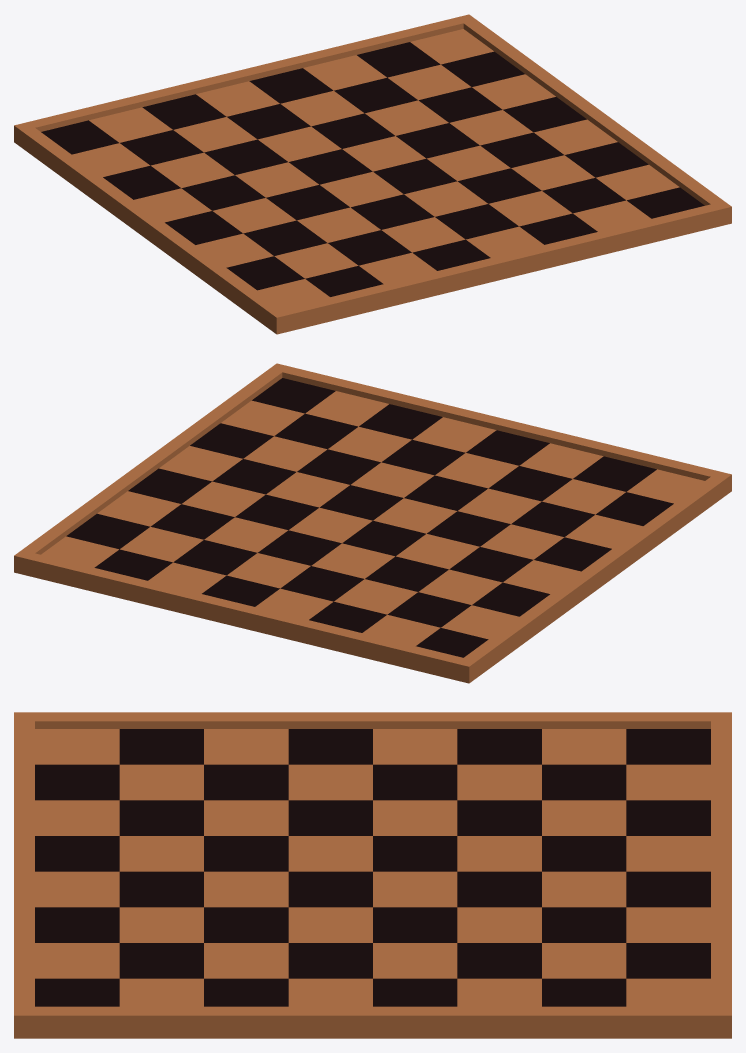
The model's file is ChessBoard.glb.
3 views of the same model, one above another, from view 1: azimuth 30°, elevation 25°; view 2: azimuth 150°, elevation 25°; view 3: azimuth 270°, elevation 25° (orthographic). The views are drawn at different scales.
Visible parts, largest first — view 1: Chess Board; view 2: Chess Board; view 3: Chess Board.
Boxes of the visible parts, box(x1,y1,x2,y2) form: Chess Board: box(14, 14, 731, 334); Chess Board: box(14, 363, 731, 683); Chess Board: box(14, 712, 731, 1038).
Size of the model in its own units: 0.2159 by 0.00762 by 0.2159.
